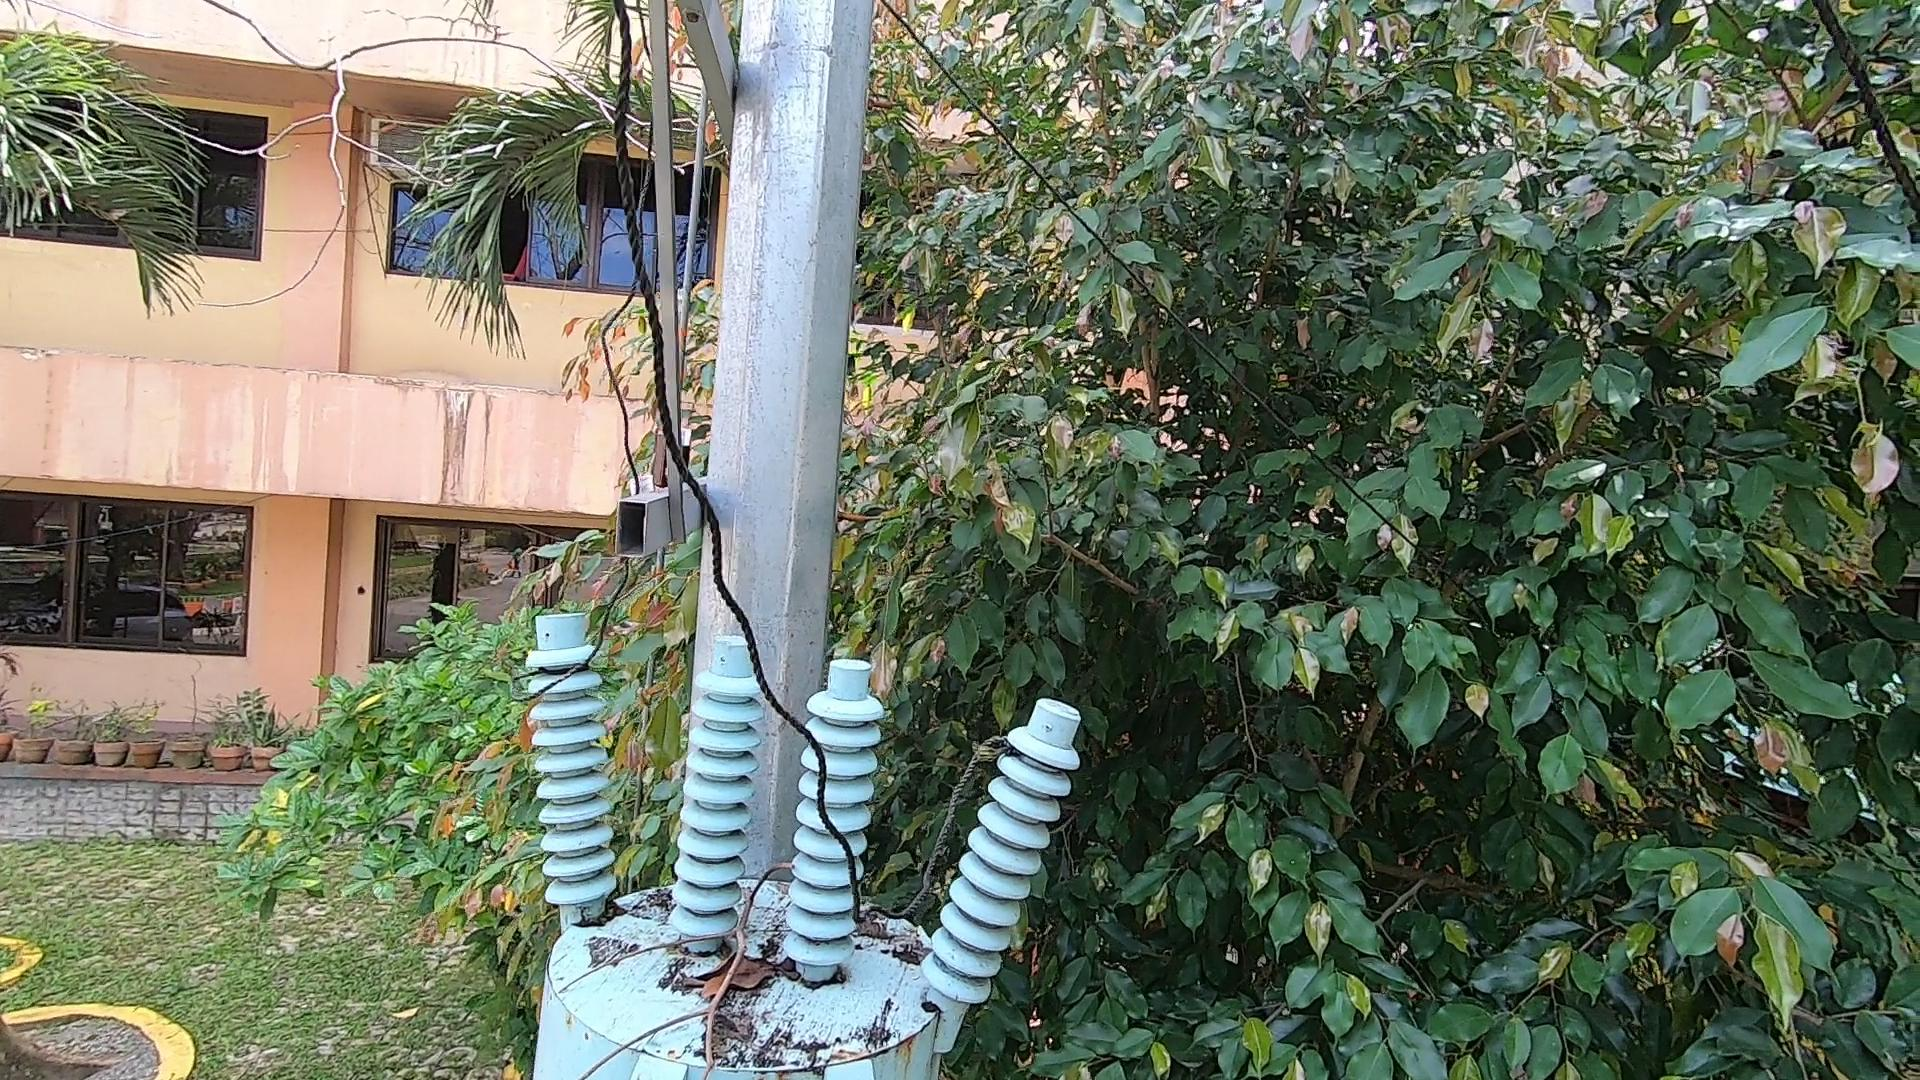leaf: (690, 945, 796, 1007), (860, 903, 931, 968), (570, 889, 632, 930)
tree branch: (563, 816, 810, 1080)
